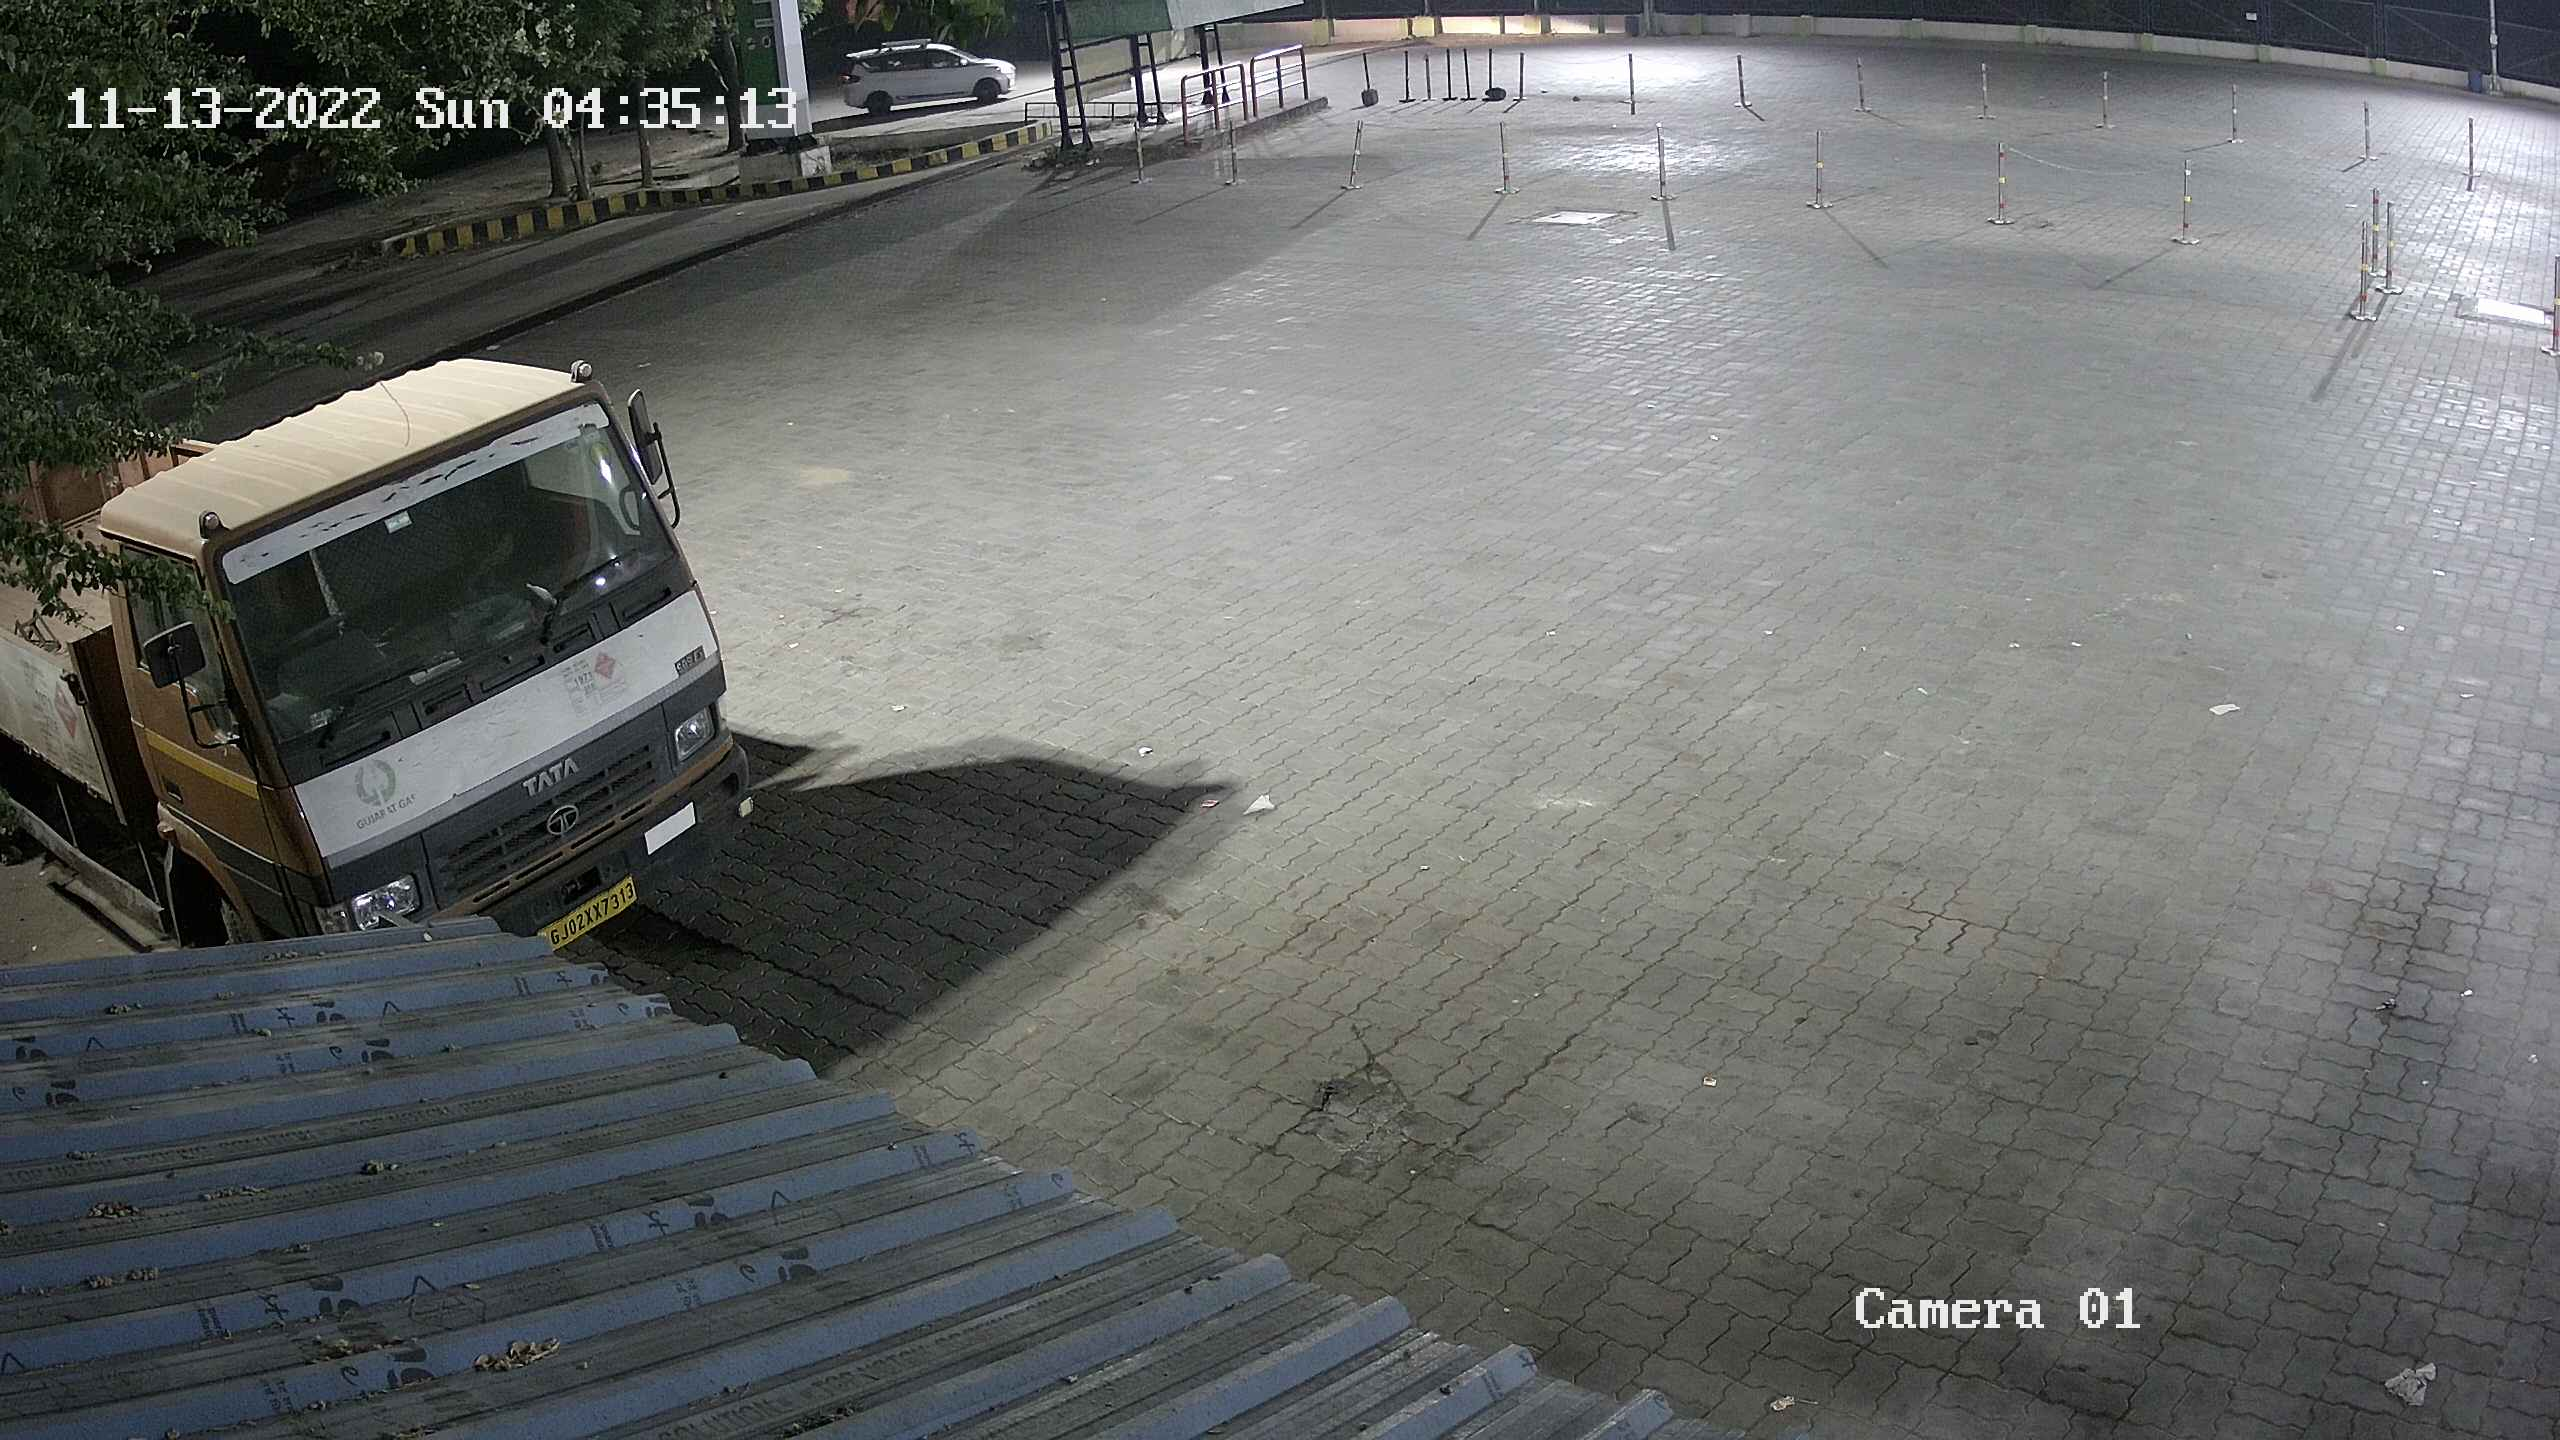Car: (825, 30, 1022, 118)
HMV: (0, 345, 777, 960)
